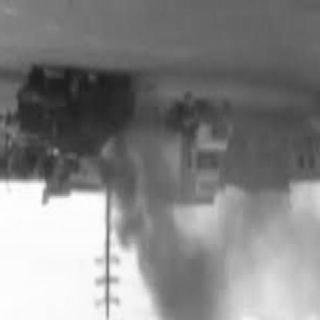Fire: (89, 123, 127, 176)
Smoke: (101, 148, 225, 320)
